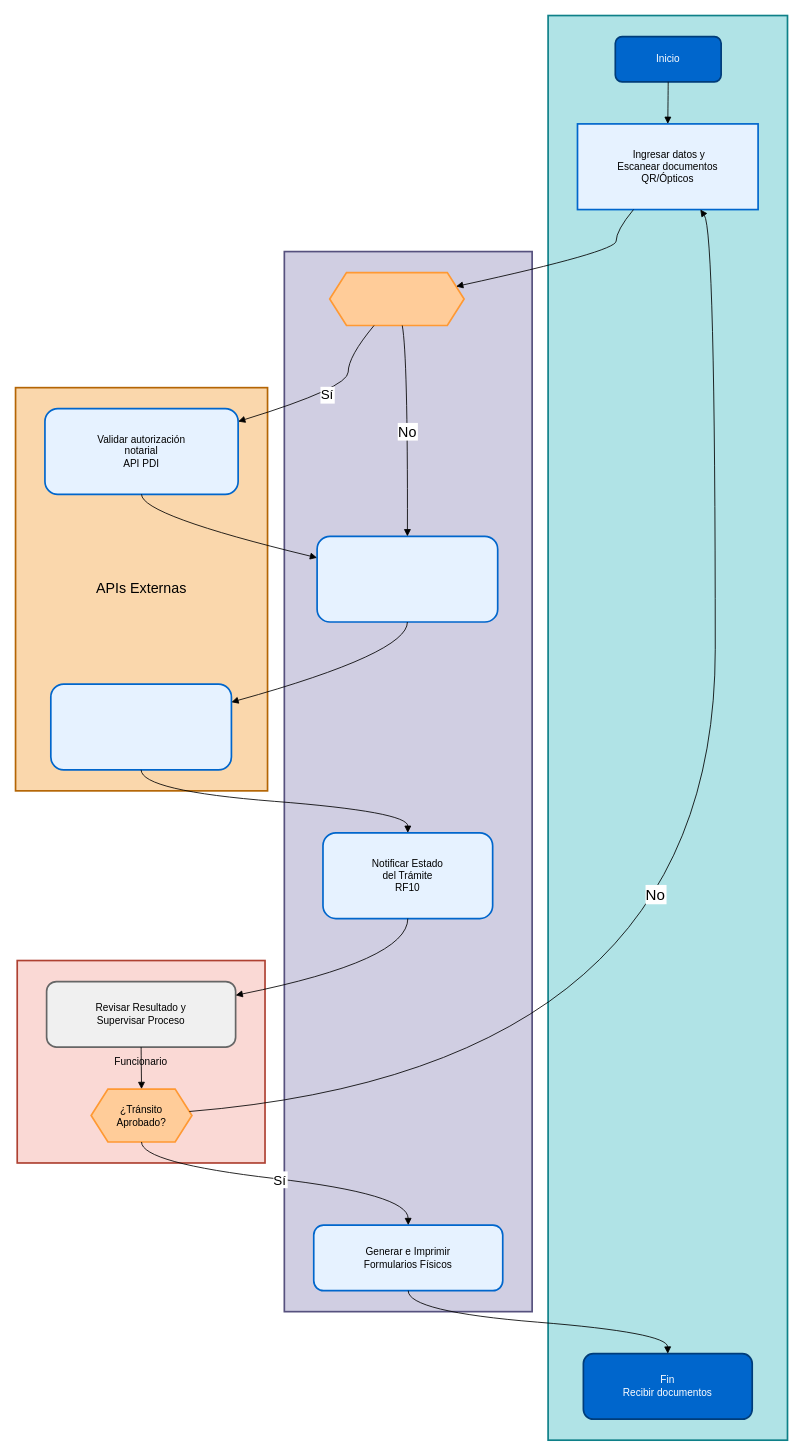
This 802x1455 diagram has some shape labels left out. Each missing label, with the box of its shape:
Ejecutar Validación Automática de Reglas RF09: (316, 535, 498, 622)
Pasajero: (547, 14, 788, 1441)
Sincronizar datos con Aduana Argentina RF06: (50, 683, 232, 770)
Sistema SIGA Backend: (283, 250, 533, 1312)
¿El pasajero es menor de edad?: (328, 271, 465, 326)
